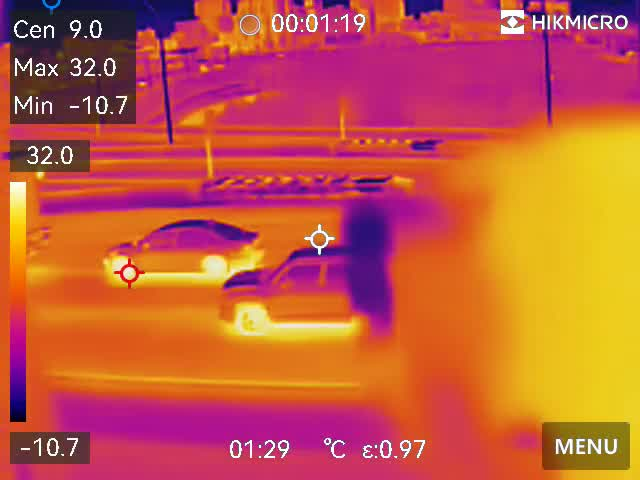largeCar: (215, 246, 376, 326)
smallCar: (94, 220, 263, 281)
